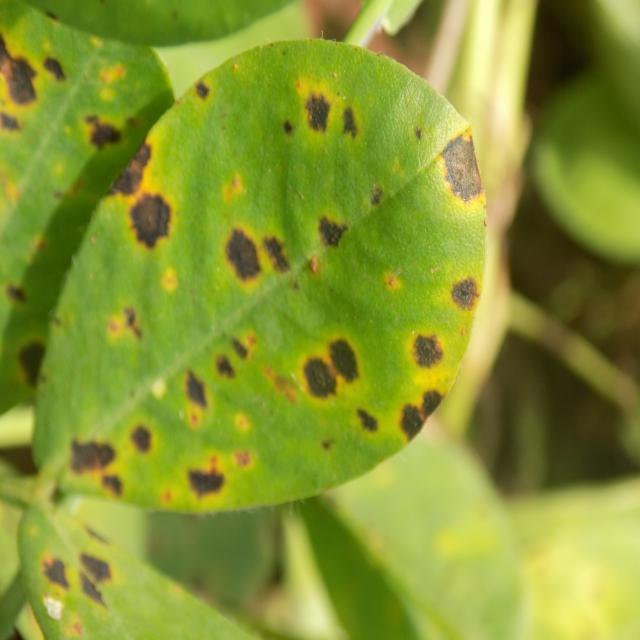Ground nut_tikka leaf spot: (23, 37, 487, 519)
